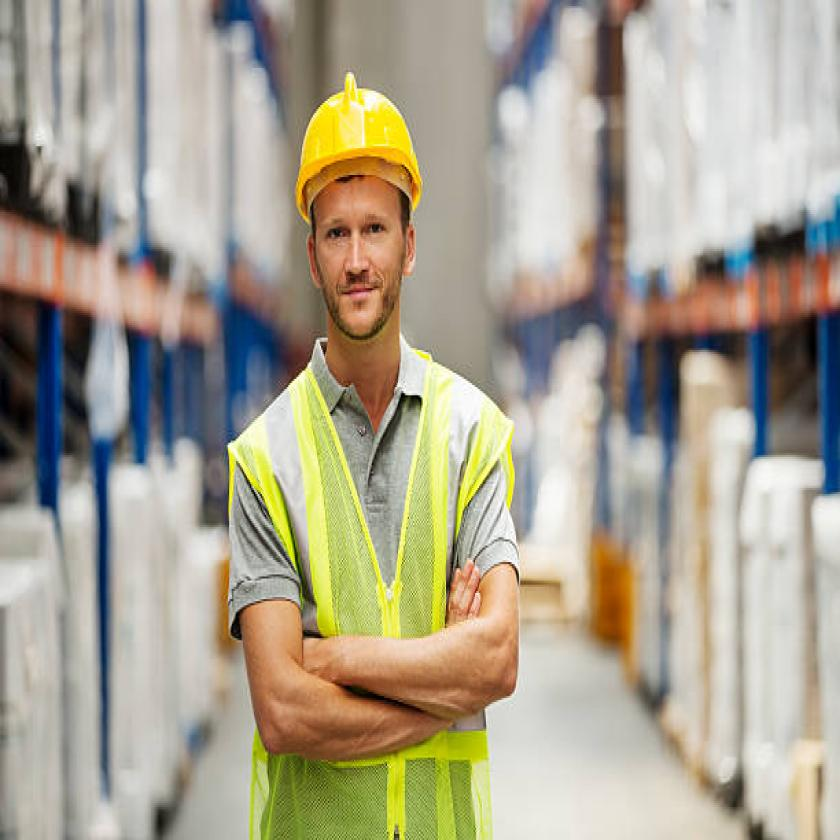Con_casco: (283, 77, 428, 359)
